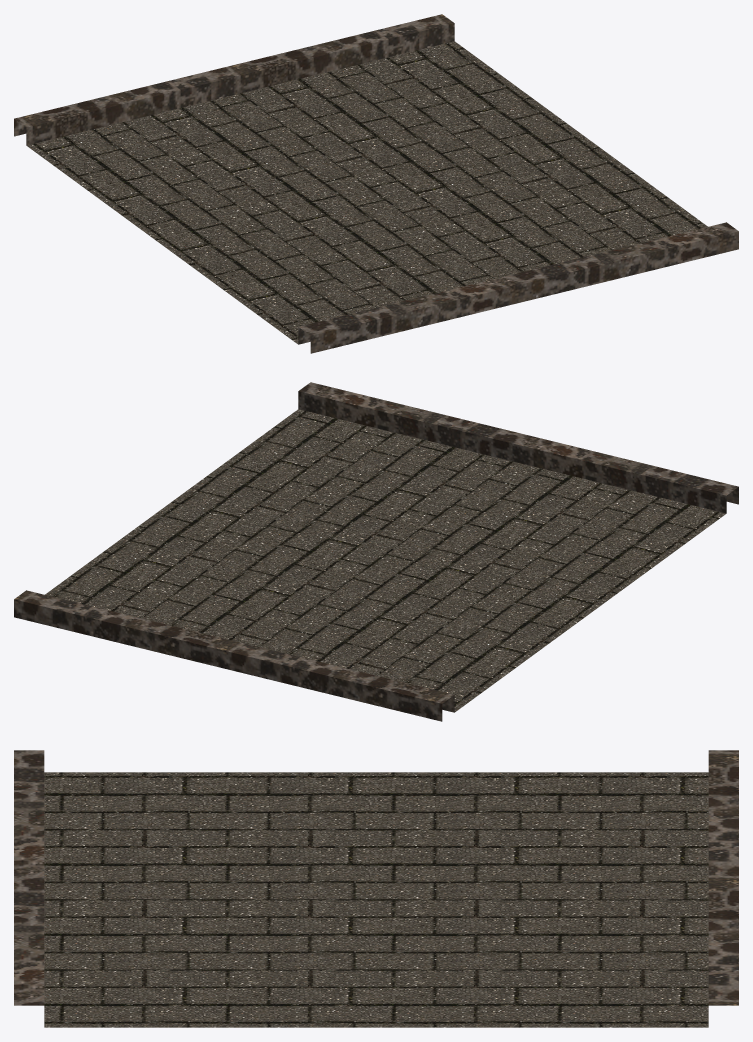
File: road_5m.obj
3 views of the same model, one above another, from view 1: azimuth 30°, elevation 25°; view 2: azimuth 150°, elevation 25°; view 3: azimuth 270°, elevation 25° (orthographic). The views are drawn at different scales.
Parts seen in each view (by area): view 1: Road_5M_Plane; view 2: Road_5M_Plane; view 3: Road_5M_Plane.
Part boxes in pixels (x1=…): Road_5M_Plane: x1=14, y1=14, x2=738, y2=353; Road_5M_Plane: x1=14, y1=382, x2=738, y2=721; Road_5M_Plane: x1=14, y1=750, x2=738, y2=1027.
Size of the model in its own units: 5 by 0.2 by 6.
Materials: 2 (2 with a texture image).
